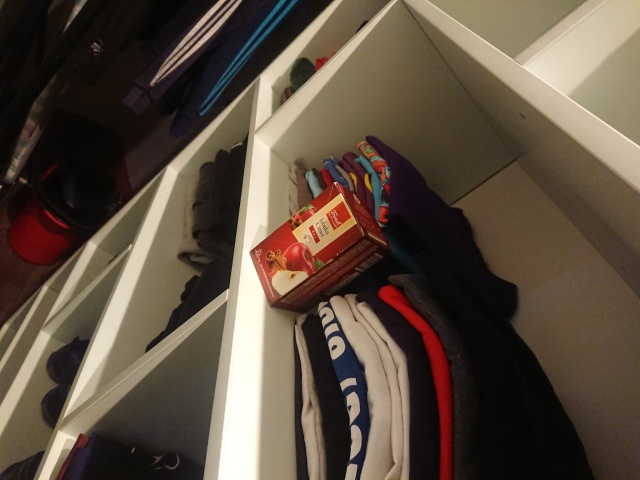Franck Apple Cinnamon Tea 60g: (247, 178, 392, 315)
